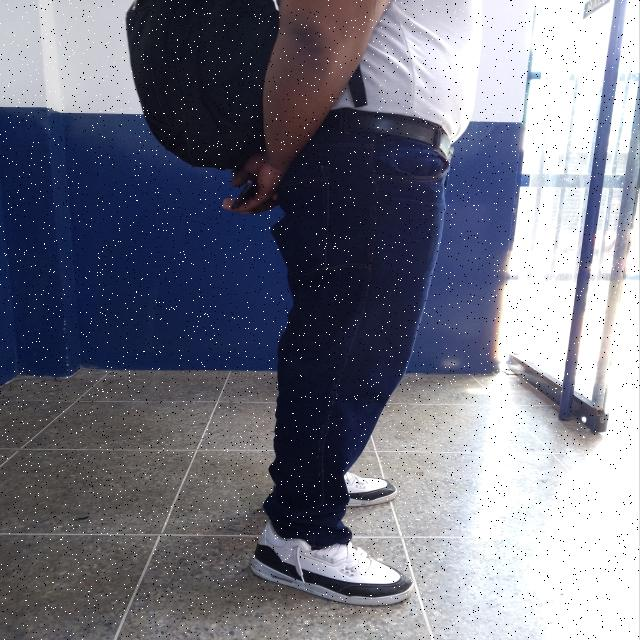pantalon_oscuro: (260, 130, 448, 553)
